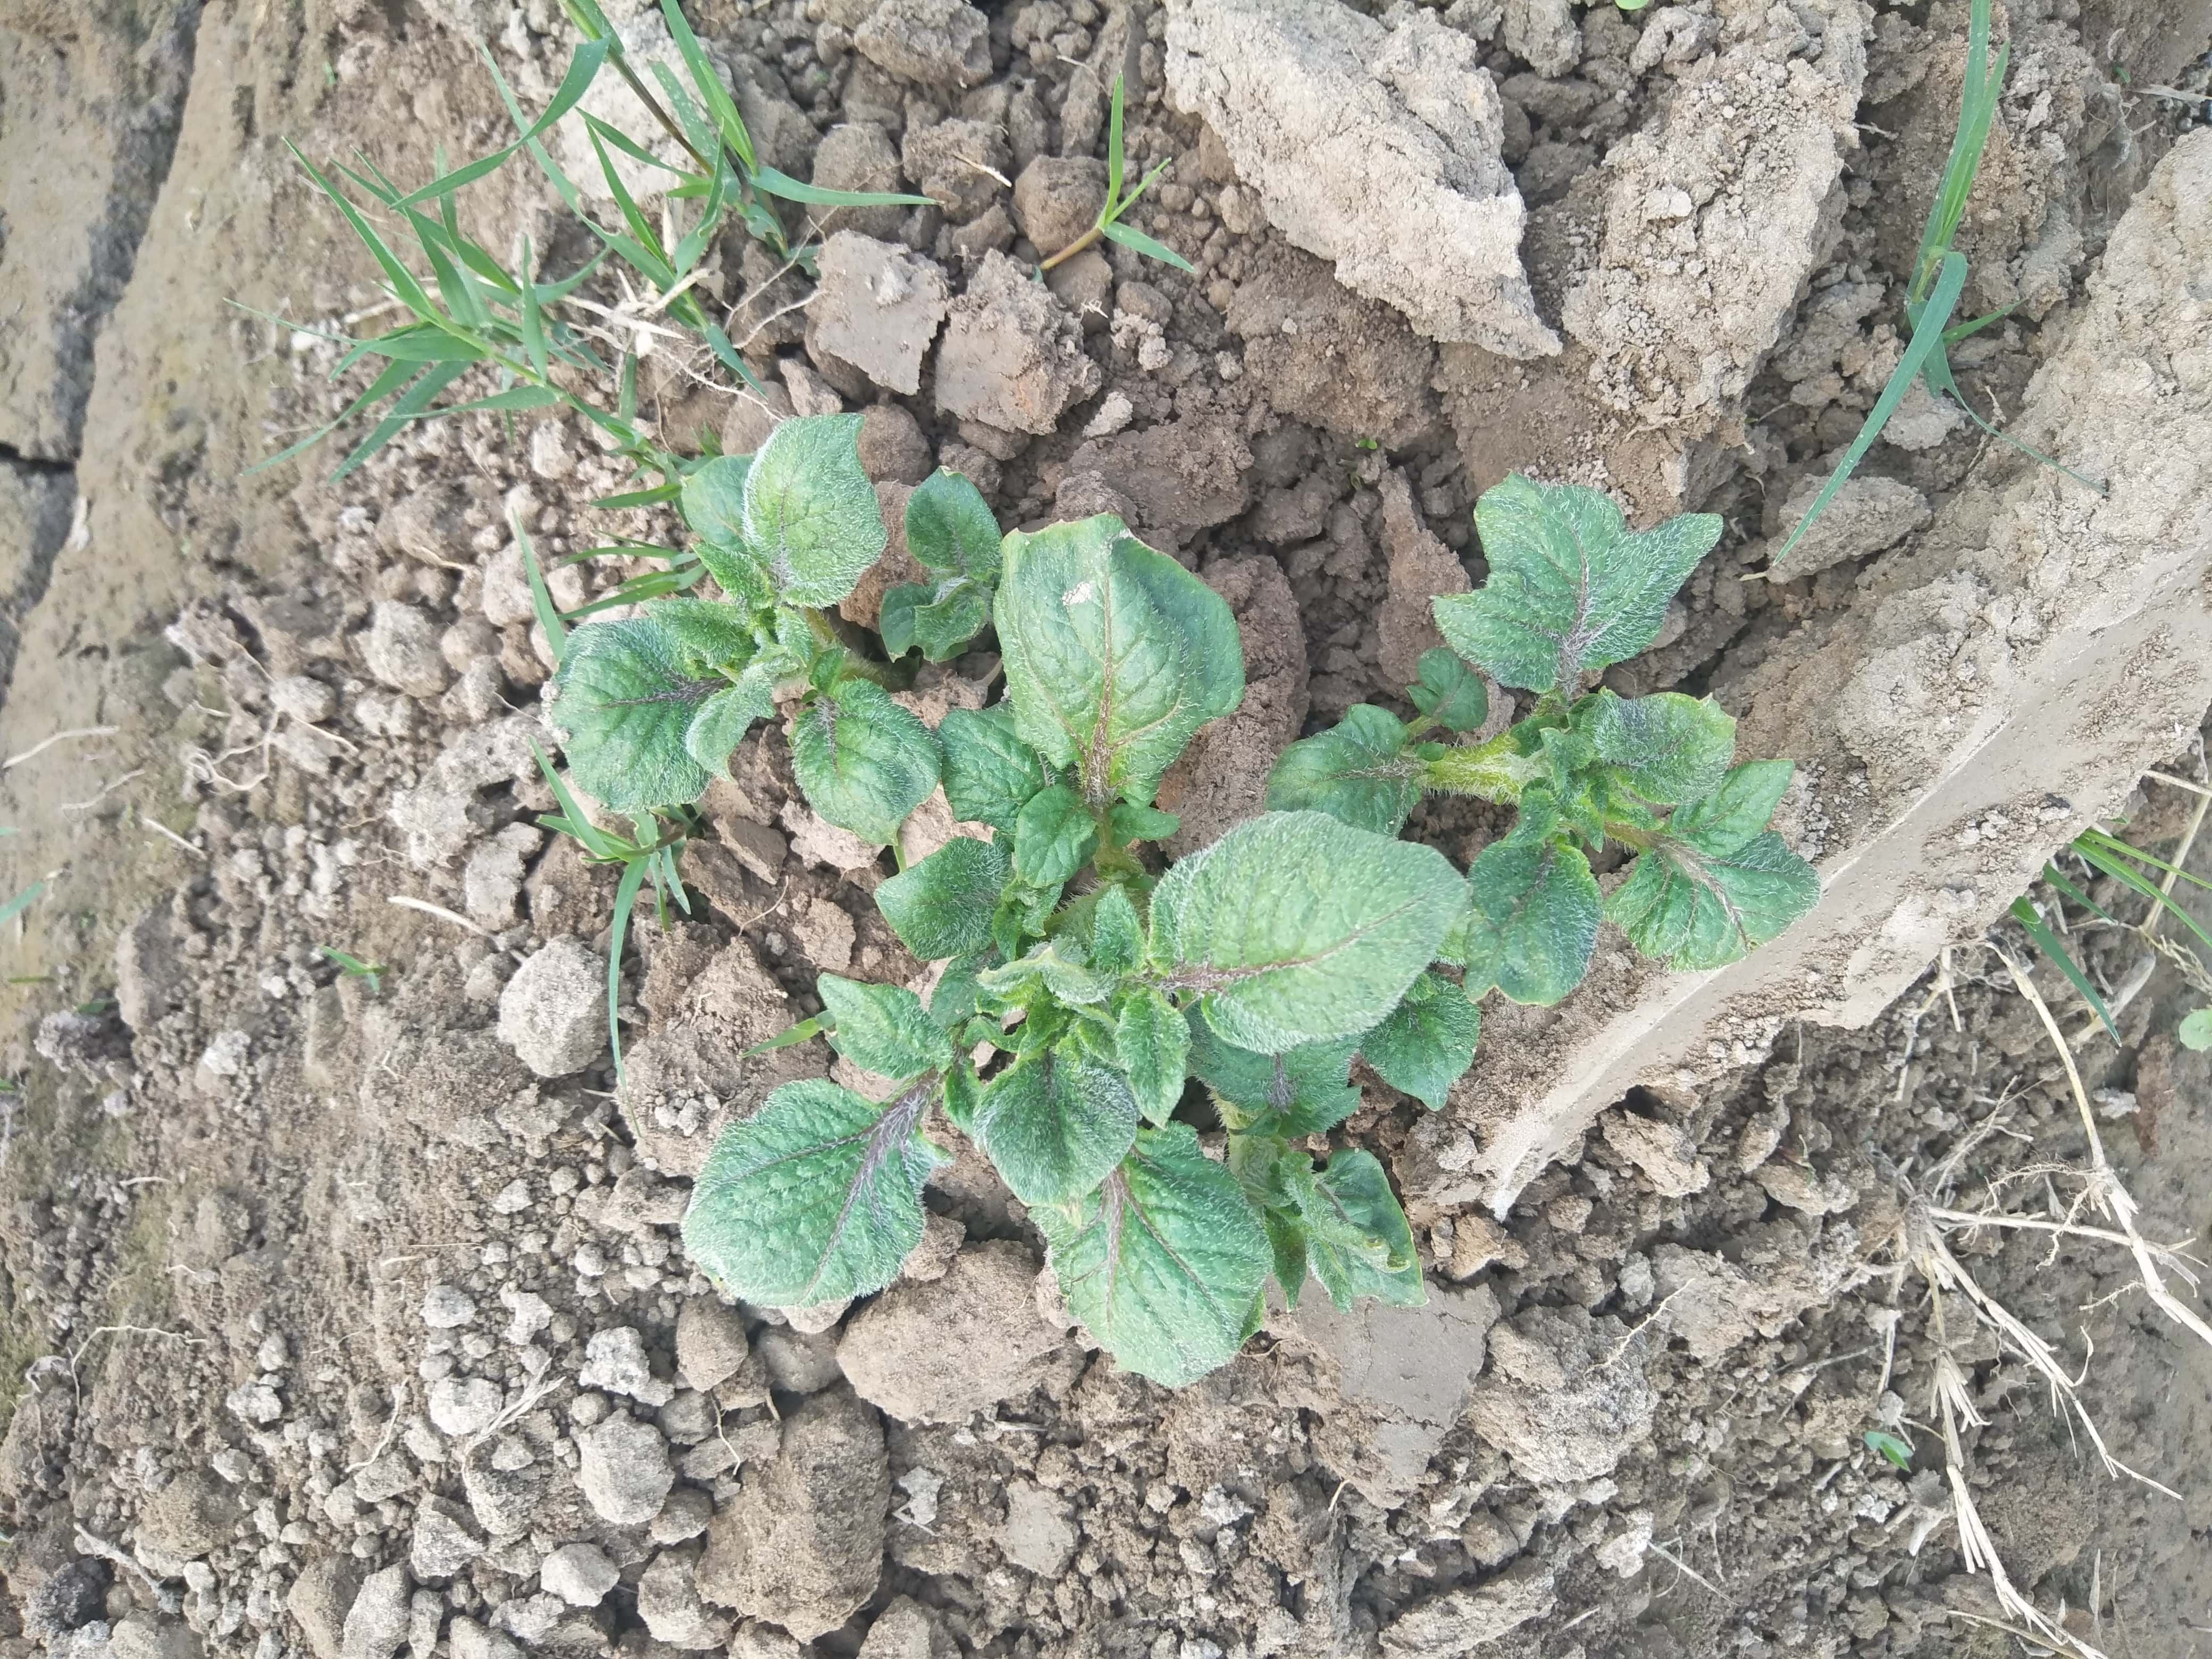daun: (1155, 814, 1463, 1044), (1014, 512, 1242, 796), (679, 1080, 937, 1323), (1433, 476, 1710, 690), (1050, 1134, 1275, 1382), (547, 601, 738, 807), (752, 410, 881, 605), (981, 1033, 1129, 1199), (1453, 836, 1592, 1009), (1604, 840, 1817, 951), (792, 688, 934, 849), (1541, 694, 1735, 800), (1275, 701, 1423, 829), (878, 843, 1029, 955), (1275, 1147, 1413, 1265), (1360, 978, 1479, 1110), (683, 446, 775, 615), (941, 704, 1066, 823), (808, 971, 932, 1072), (1669, 760, 1794, 852), (904, 476, 1000, 586), (1122, 1002, 1183, 1131), (1090, 885, 1143, 988)
